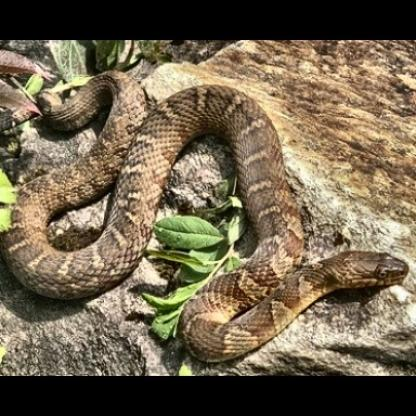Snake: (0, 76, 412, 355)
